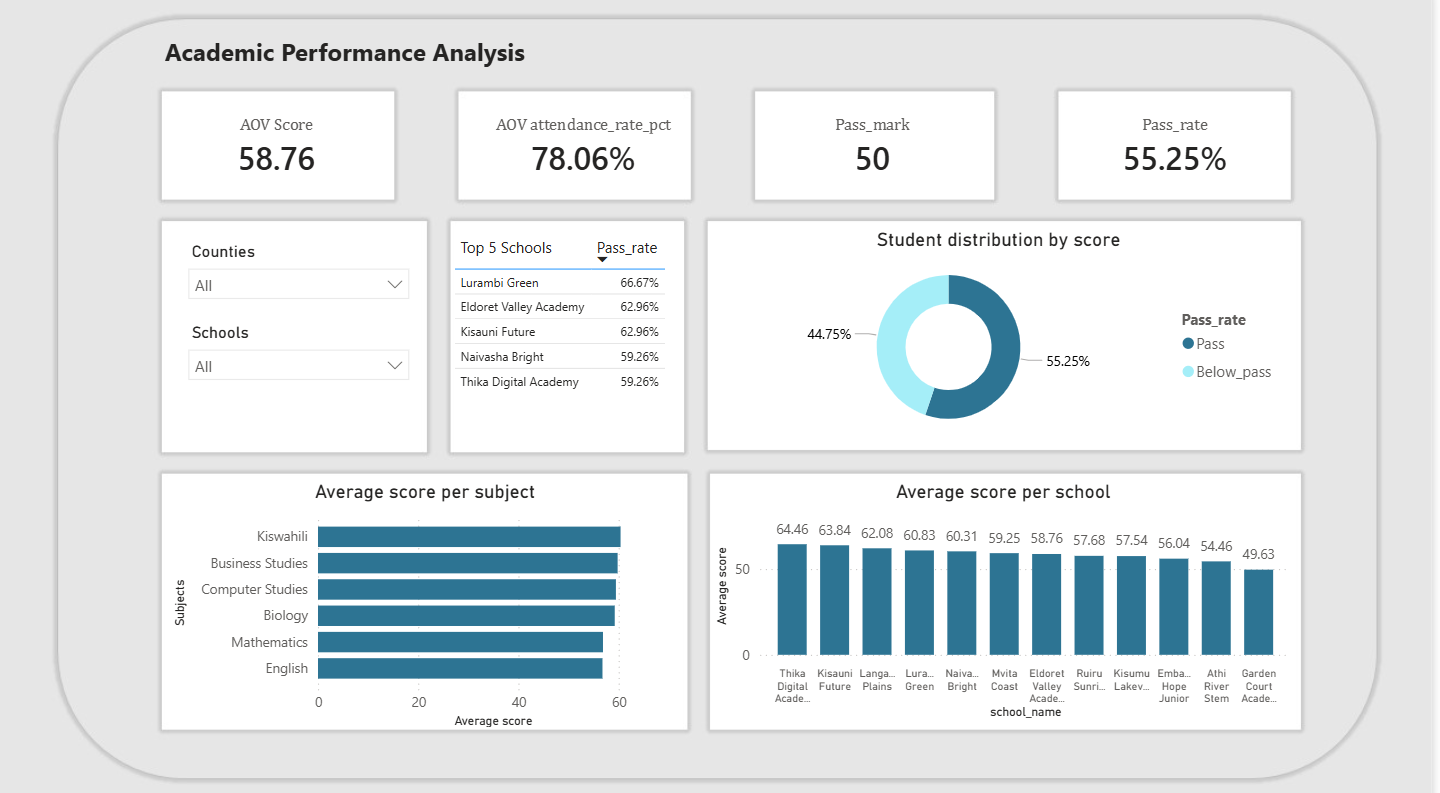

What the dashboard file says about the page in this screenshot:
{"tool":"powerbi","page":{"name":"Academic performance analysis","canvas":[1280,720],"ordinal":2},"visuals":[{"type":"cardVisual","fields":{"Data":["Avg(Fact_performance.score)"]},"box":[144,80,224,112],"z":0},{"type":"clusteredColumnChart","title":"Average score per school","fields":{"Category":["Dim_school.cleaned_school_name"],"Y":["Avg(Fact_performance.score)"]},"box":[640,432,520,216],"z":1000},{"type":"clusteredBarChart","title":"Average score per subject","fields":{"Category":["Dim_subject.cleaned_subject_name"],"Y":["Avg(Fact_performance.score)"]},"box":[160,432,456,224],"z":2000},{"type":"donutChart","title":"Student distribution by score","fields":{"Category":["Fact_performance.Below pass"],"Y":["CountNonNull(Fact_performance.student_id)"]},"box":[640,208,512,192],"z":3000},{"type":"slicer","fields":{"Values":["Dim_school.Cleaned_school_county"]},"box":[168,216,216,72],"z":4000},{"type":"tableEx","fields":{"Values":["Dim_school.cleaned_school_name","Dim_school.Pass_rate"]},"box":[408,208,208,200],"z":5000},{"type":"cardVisual","fields":{"Data":["Dim_school.Pass_rate"]},"box":[952,88,200,96],"z":6000},{"type":"cardVisual","fields":{"Data":["Max(Dim_school.Pass_mark)"]},"box":[680,88,208,96],"z":7000},{"type":"slicer","fields":{"Values":["Dim_school.cleaned_school_name"]},"box":[168,288,216,72],"z":8000},{"type":"cardVisual","fields":{"Data":["Avg(Fact_performance.attendance_rate_pct)"]},"box":[416,80,224,112],"z":9000},{"type":"textbox","box":[152,32,352,48],"z":10000}]}

Visuals, with their boxes in screenshot pixels (x1, y1, x2, y2), scaled from the page's 1280x720 canvas onto the 1440x793 screenshot:
cardVisual - Avg(Fact_performance.score): bbox=(162, 88, 414, 211)
"Average score per school" clusteredColumnChart: bbox=(720, 476, 1305, 714)
"Average score per subject" clusteredBarChart: bbox=(180, 476, 693, 723)
"Student distribution by score" donutChart: bbox=(720, 229, 1296, 441)
slicer - Dim_school.Cleaned_school_county: bbox=(189, 238, 432, 317)
tableEx - Dim_school.cleaned_school_name x Dim_school.Pass_rate: bbox=(459, 229, 693, 449)
cardVisual - Dim_school.Pass_rate: bbox=(1071, 97, 1296, 203)
cardVisual - Max(Dim_school.Pass_mark): bbox=(765, 97, 999, 203)
slicer - Dim_school.cleaned_school_name: bbox=(189, 317, 432, 397)
cardVisual - Avg(Fact_performance.attendance_rate_pct): bbox=(468, 88, 720, 211)
textbox: bbox=(171, 35, 567, 88)
